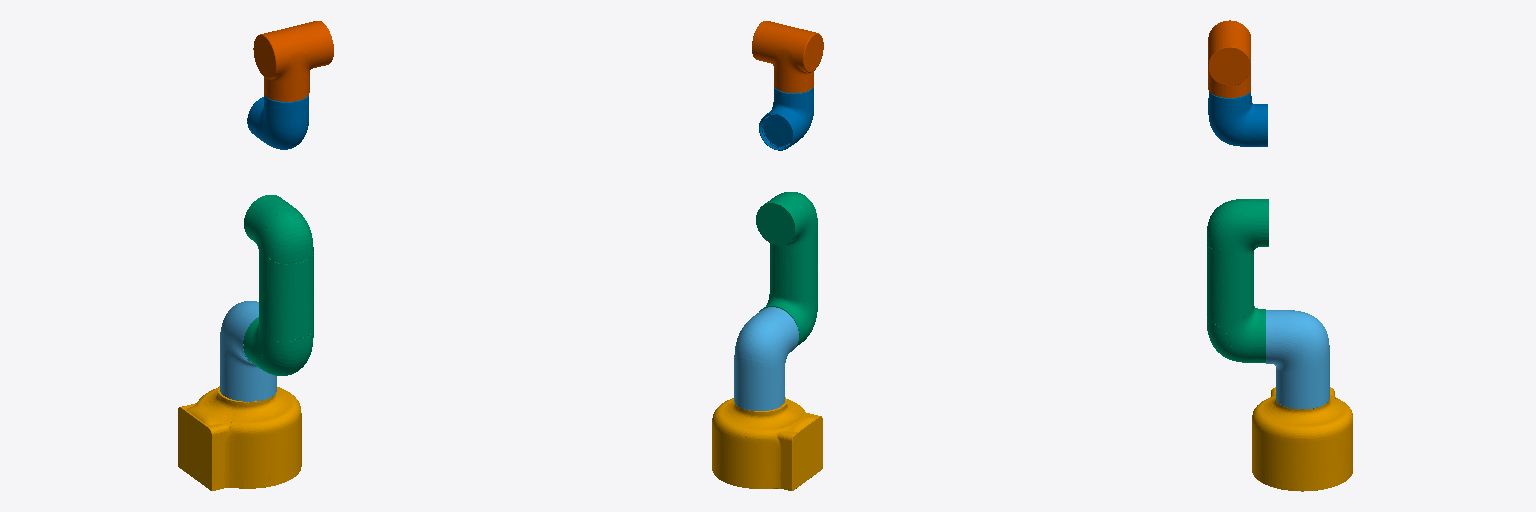
robot.urdf — mycobot:
<?xml version="1.0" ?>
<!-- =================================================================================== -->
<!-- |    This document was autogenerated by xacro from mycobot.urdf.xacro             | -->
<!-- |    EDITING THIS FILE BY HAND IS NOT RECOMMENDED                                 | -->
<!-- =================================================================================== -->
<robot name="mycobot">
  <mujoco> <compiler discardvisual="false" meshdir="mesh"/> </mujoco>
  <link name="link1">
    <inertial>
      <origin rpy="0 0 0" xyz="0 0 0.035"/>
      <mass value="10.0"/>
      <inertia ixx="0.010333333333333335" ixy="0" ixz="0" iyy="0.010333333333333335" iyz="0" izz="0.0125"/>
    </inertial>
    <visual>
      <geometry>
        <mesh filename="package://mycobot_description/urdf/mycobot/mesh/link1.obj"/>
      </geometry>
      <origin rpy=" 0 0 -1.5707963267948966" xyz="0.0 0 0 "/>
    </visual>
    <collision>
      <geometry>
        <mesh filename="package://mycobot_description/urdf/mycobot/mesh/link1.obj"/>
      </geometry>
      <origin rpy=" 0 0 -1.5707963267948966" xyz="0.0 0 0 "/>
    </collision>
  </link>
  <link name="link2">
    <inertial>
      <origin rpy="0 0 0" xyz="0 0 0.060"/>
      <mass value="0.2"/>
      <inertia ixx="0.00023166666666666672" ixy="0" ixz="0" iyy="0.00023166666666666672" iyz="0" izz="0.00025000000000000006"/>
    </inertial>
    <visual>
      <geometry>
        <mesh filename="package://mycobot_description/urdf/mycobot/mesh/link2.obj"/>
      </geometry>
      <origin rpy=" 0 0 -1.5707963267948966" xyz="0.0 0 -0.06096 "/>
    </visual>
    <collision>
      <geometry>
        <mesh filename="package://mycobot_description/urdf/mycobot/mesh/link2.obj"/>
      </geometry>
      <origin rpy=" 0 0 -1.5707963267948966" xyz="0.0 0 -0.06096 "/>
    </collision>
  </link>
  <link name="link3">
    <inertial>
      <origin rpy="0 0 0" xyz="0.01 0 0.06"/>
      <mass value="0.4"/>
      <inertia ixx="0.0010508333333333335" ixy="0" ixz="0" iyy="0.0010508333333333335" iyz="0" izz="0.0005000000000000001"/>
    </inertial>
    <visual>
      <geometry>
        <mesh filename="package://mycobot_description/urdf/mycobot/mesh/link3.obj"/>
      </geometry>
      <origin rpy=" 0 -1.5707963267948966 0" xyz="0.0 0 0.03256 "/>
    </visual>
    <collision>
      <geometry>
        <mesh filename="package://mycobot_description/urdf/mycobot/mesh/link3.obj"/>
      </geometry>
      <origin rpy=" 0 -1.5707963267948966 0" xyz="0.0 0 0.03256 "/>
    </collision>
  </link>
  <link name="link4">
    <inertial>
      <origin rpy="0 0 0" xyz="-0.01 0 0.05"/>
      <mass value="0.4"/>
      <inertia ixx="0.0010508333333333335" ixy="0" ixz="0" iyy="0.0010508333333333335" iyz="0" izz="0.0005000000000000001"/>
    </inertial>
    <visual>
      <geometry>
        <!--- 0.0 0 -0.04 -->
        <mesh filename="package://mycobot_description/urdf/mycobot/mesh/link4.obj"/>
      </geometry>
      <origin rpy=" 0 -1.5707963267948966 0" xyz="0.0 0 0.03056 "/>
    </visual>
    <collision>
      <geometry>
        <!--- 0.0 0 -0.04 -->
        <mesh filename="package://mycobot_description/urdf/mycobot/mesh/link4.obj"/>
      </geometry>
      <origin rpy=" 0 -1.5707963267948966 0" xyz="0.0 0 0.03056 "/>
    </collision>
  </link>
  <link name="link5">
    <inertial>
      <origin rpy="0 0 0" xyz="0 0 0.05"/>
      <mass value="0.2"/>
      <inertia ixx="0.00016666666666666672" ixy="0" ixz="0" iyy="0.00016666666666666672" iyz="0" izz="0.00025000000000000006"/>
    </inertial>
    <visual>
      <geometry>
        <!--- 0.0 0 -0.04 -->
        <mesh filename="package://mycobot_description/urdf/mycobot/mesh/link5.obj"/>
      </geometry>
      <origin rpy=" -1.5707963267948966 0 0" xyz="0.0 0 -0.03356 "/>
    </visual>
    <collision>
      <geometry>
        <!--- 0.0 0 -0.04 -->
        <mesh filename="package://mycobot_description/urdf/mycobot/mesh/link5.obj"/>
      </geometry>
      <origin rpy=" -1.5707963267948966 0 0" xyz="0.0 0 -0.03356 "/>
    </collision>
  </link>
  <link name="link6">
    <inertial>
      <origin rpy="0 0 0" xyz="0 0 0.037"/>
      <mass value="0.5"/>
      <inertia ixx="0.0004625000000000001" ixy="0" ixz="0" iyy="0.0004625000000000001" iyz="0" izz="0.0006250000000000001"/>
    </inertial>
    <visual>
      <geometry>
        <!--- 0.0 0 -0.04 -->
        <mesh filename="package://mycobot_description/urdf/mycobot/mesh/link6.obj"/>
      </geometry>
      <origin rpy=" 0 0 0" xyz="0 0.00 -0.038 "/>
    </visual>
    <collision>
      <geometry>
        <!--- 0.0 0 -0.04 -->
        <mesh filename="package://mycobot_description/urdf/mycobot/mesh/link6.obj"/>
      </geometry>
      <origin rpy=" 0 0 0" xyz="0 0.00 -0.038 "/>
    </collision>
  </link>
  <link name="link7">
    <inertial>
      <origin rpy="1.570795 0 0" xyz="0 0.0025 0"/>
      <mass value="0.1"/>
      <inertia ixx="1.0208333333333334e-05" ixy="0" ixz="0" iyy="1.0208333333333334e-05" iyz="0" izz="2e-05"/>
    </inertial>
    <visual>
      <geometry>
        <!--- 0.0 0 -0.04 -->
        <mesh filename="package://mycobot_description/urdf/mycobot/mesh/link7.obj"/>
      </geometry>
      <origin rpy=" 0 0 0" xyz="0.0 0 -0.012 "/>
    </visual>
    <collision>
      <geometry>
        <!--- 0.0 0 -0.04 -->
        <mesh filename="package://mycobot_description/urdf/mycobot/mesh/link7.obj"/>
      </geometry>
      <origin rpy=" 0 0 0" xyz="0.0 0 -0.012 "/>
    </collision>
  </link>
  <link name="camera_link"/>
  <joint name="camera" type="fixed">
    <parent link="link1"/>
    <child link="camera_link"/>
    <origin rpy="0 0 0" xyz="0.36 0 0.57 "/>
  </joint>
  <joint name="joint1" type="revolute">
    <axis xyz="0 0 1"/>
    <limit effort="10.0" lower="-3.141592653589793" upper="3.141592653589793" velocity="1.0"/>
    <parent link="link1"/>
    <child link="link2"/>
    <origin rpy="0 0 0" xyz="0 0 0.13156"/>
    <dynamics damping="1.0e-6" friction="2.0e-1"/>
  </joint>
  <joint name="joint2" type="revolute">
    <axis xyz="0 0 1"/>
    <limit effort="10.0" lower="-3.141592653589793" upper="3.141592653589793" velocity="1.0"/>
    <parent link="link2"/>
    <child link="link3"/>
    <origin rpy="0 1.5707963267948966 -1.5707963267948966" xyz="0 0  0"/>
    <dynamics damping="1.0e-6" friction="2.0e-1"/>
  </joint>
  <joint name="joint3" type="revolute">
    <axis xyz=" 0 0 1"/>
    <limit effort="10.0" lower="-3.141592653589793" upper="3.141592653589793" velocity="1.0"/>
    <parent link="link3"/>
    <child link="link4"/>
    <origin rpy="0 0 0" xyz="-0.1104 0 0   "/>
    <dynamics damping="1.0e-6" friction="2.0e-1"/>
  </joint>
  <joint name="joint4" type="revolute">
    <axis xyz=" 0 0 1"/>
    <limit effort="10.0" lower="-3.141592653589793" upper="3.141592653589793" velocity="1.0"/>
    <parent link="link4"/>
    <child link="link5"/>
    <origin rpy="0 0 -1.5707963267948966" xyz="-0.096 0 0.06462"/>
    <dynamics damping="1.0e-6" friction="2.0e-1"/>
  </joint>
  <joint name="joint5" type="revolute">
    <axis xyz="0 0 1"/>
    <limit effort="10.0" lower="-3.141592653589793" upper="3.141592653589793" velocity="1.0"/>
    <parent link="link5"/>
    <child link="link6"/>
    <origin rpy="1.5707963267948966 -1.5707963267948966 0" xyz="0 -0.07318 0"/>
    <dynamics damping="1.0e-6" friction="2.0e-1"/>
  </joint>
  <joint name="joint6" type="revolute">
    <axis xyz="0 0 1"/>
    <limit effort="10.0" lower="-3.141592653589793" upper="3.141592653589793" velocity="1.0"/>
    <parent link="link6"/>
    <child link="link7"/>
    <origin rpy="-1.5707963267948966 0 0" xyz="0 0.0456 0"/>
    <dynamics damping="1.0e-6" friction="2.0e-1"/>
  </joint>
  <transmission name="joint1_trans">
    <provideFeedback>true</provideFeedback>
    <implicitSpringDamper>0</implicitSpringDamper>
    <motorTorqueConstant>0.418</motorTorqueConstant>
    <type>transmission_interface/SimpleTransmission</type>
    <joint name="joint1">
      <hardwareInterface>hardware_interface/PositionJointInterface</hardwareInterface>
    </joint>
    <actuator name="joint1_motor">
      <hardwareInterface>hardware_interface/PositionJointInterface</hardwareInterface>
      <mechanicalReduction>1</mechanicalReduction>
    </actuator>
  </transmission>
  <transmission name="joint2_trans">
    <provideFeedback>true</provideFeedback>
    <implicitSpringDamper>0</implicitSpringDamper>
    <motorTorqueConstant>0.418</motorTorqueConstant>
    <type>transmission_interface/SimpleTransmission</type>
    <joint name="joint2">
      <hardwareInterface>hardware_interface/PositionJointInterface</hardwareInterface>
    </joint>
    <actuator name="joint2_motor">
      <hardwareInterface>hardware_interface/PositionJointInterface</hardwareInterface>
      <mechanicalReduction>1</mechanicalReduction>
    </actuator>
  </transmission>
  <transmission name="joint3_trans">
    <provideFeedback>true</provideFeedback>
    <implicitSpringDamper>0</implicitSpringDamper>
    <motorTorqueConstant>0.418</motorTorqueConstant>
    <type>transmission_interface/SimpleTransmission</type>
    <joint name="joint3">
      <hardwareInterface>hardware_interface/PositionJointInterface</hardwareInterface>
    </joint>
    <actuator name="joint3_motor">
      <hardwareInterface>hardware_interface/PositionJointInterface</hardwareInterface>
      <mechanicalReduction>1</mechanicalReduction>
    </actuator>
  </transmission>
  <transmission name="joint4_trans">
    <provideFeedback>true</provideFeedback>
    <implicitSpringDamper>0</implicitSpringDamper>
    <motorTorqueConstant>0.418</motorTorqueConstant>
    <type>transmission_interface/SimpleTransmission</type>
    <joint name="joint4">
      <hardwareInterface>hardware_interface/PositionJointInterface</hardwareInterface>
    </joint>
    <actuator name="joint4_motor">
      <hardwareInterface>hardware_interface/PositionJointInterface</hardwareInterface>
      <mechanicalReduction>1</mechanicalReduction>
    </actuator>
  </transmission>
  <transmission name="joint5_trans">
    <provideFeedback>true</provideFeedback>
    <implicitSpringDamper>0</implicitSpringDamper>
    <motorTorqueConstant>0.418</motorTorqueConstant>
    <type>transmission_interface/SimpleTransmission</type>
    <joint name="joint5">
      <hardwareInterface>hardware_interface/PositionJointInterface</hardwareInterface>
    </joint>
    <actuator name="joint5_motor">
      <hardwareInterface>hardware_interface/PositionJointInterface</hardwareInterface>
      <mechanicalReduction>1</mechanicalReduction>
    </actuator>
  </transmission>
  <transmission name="joint6_trans">
    <provideFeedback>true</provideFeedback>
    <implicitSpringDamper>0</implicitSpringDamper>
    <motorTorqueConstant>0.418</motorTorqueConstant>
    <type>transmission_interface/SimpleTransmission</type>
    <joint name="joint6">
      <hardwareInterface>hardware_interface/PositionJointInterface</hardwareInterface>
    </joint>
    <actuator name="joint6_motor">
      <hardwareInterface>hardware_interface/PositionJointInterface</hardwareInterface>
      <mechanicalReduction>1</mechanicalReduction>
    </actuator>
  </transmission>
</robot>

--- Facts derived from the render (not from the file) ---
The picture shows the robot from 3 angles, left to right: view 1: azimuth 30°, elevation 25°; view 2: azimuth 150°, elevation 25°; view 3: azimuth 270°, elevation 25°; orthographic projection.
Model mycobot with 8 links and 7 joints (6 revolute, 1 fixed), rooted at link1, posed every joint at zero.
Links seen in each view (by area): view 1: link1, link3, link6, link2, link5; view 2: link1, link3, link2, link6, link5; view 3: link3, link1, link2, link6, link5.
Link boxes in pixels (left/top/right/bottom): link1: left=178, top=386, right=301, bottom=490; link3: left=243, top=195, right=313, bottom=375; link6: left=253, top=21, right=333, bottom=101; link2: left=220, top=301, right=276, bottom=401; link5: left=247, top=95, right=308, bottom=149; link1: left=712, top=397, right=822, bottom=490; link3: left=756, top=192, right=817, bottom=346; link2: left=734, top=307, right=798, bottom=410; link6: left=752, top=21, right=823, bottom=92; link5: left=759, top=87, right=813, bottom=150; link3: left=1207, top=199, right=1268, bottom=362; link1: left=1252, top=387, right=1352, bottom=491; link2: left=1266, top=310, right=1329, bottom=409; link6: left=1208, top=20, right=1250, bottom=97; link5: left=1208, top=92, right=1267, bottom=146.
Bounding box of the posed robot: 0.0968 × 0.1303 × 0.4303 m (x, y, z).
Meshes: 7 distinct files referenced, 5 mesh visuals loaded (5 OBJ); not drawn: 2 (reference not matched to a file when rendering).